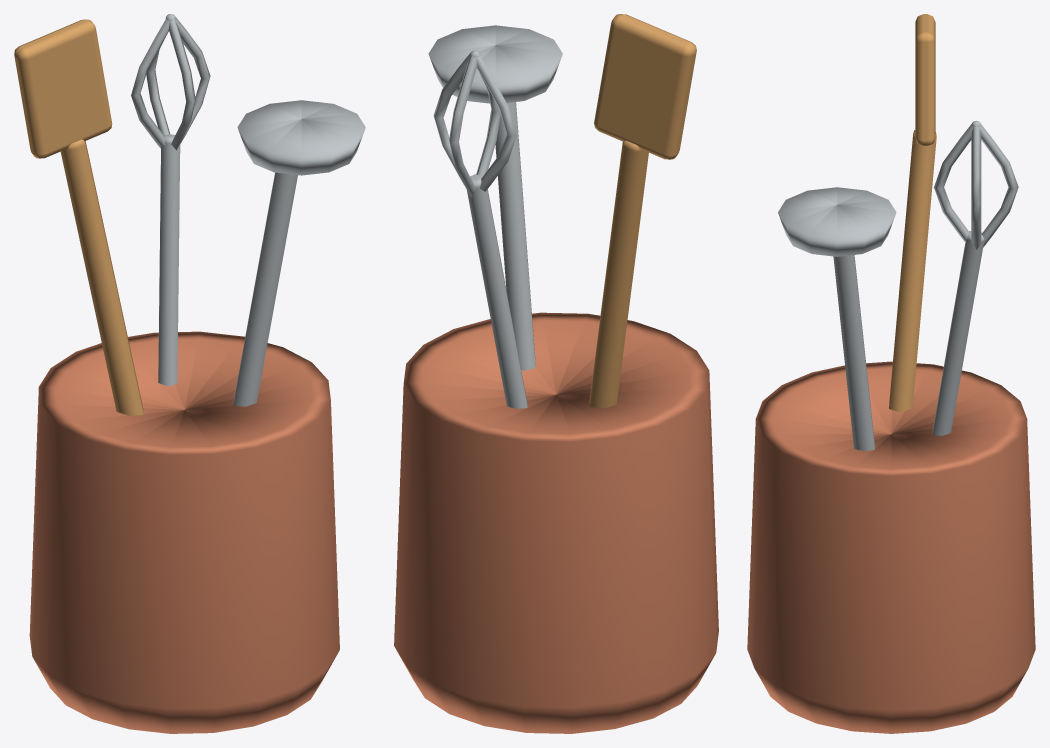
Rendered from kitchen_utensil_crock.glb.
3 views of the same model, side by side, from view 1: azimuth 30°, elevation 25°; view 2: azimuth 150°, elevation 25°; view 3: azimuth 270°, elevation 25° (orthographic). The views are drawn at different scales.
Visible parts, largest first — view 1: kitchen_utensil_crock_mesh; view 2: kitchen_utensil_crock_mesh; view 3: kitchen_utensil_crock_mesh.
Boxes of the visible parts, x1,y1,x2,y2 form: kitchen_utensil_crock_mesh: (14, 14, 365, 733); kitchen_utensil_crock_mesh: (394, 14, 718, 733); kitchen_utensil_crock_mesh: (747, 14, 1035, 733).
Bounding box in the file's own units: 0.1847 × 0.3979 × 0.17.
